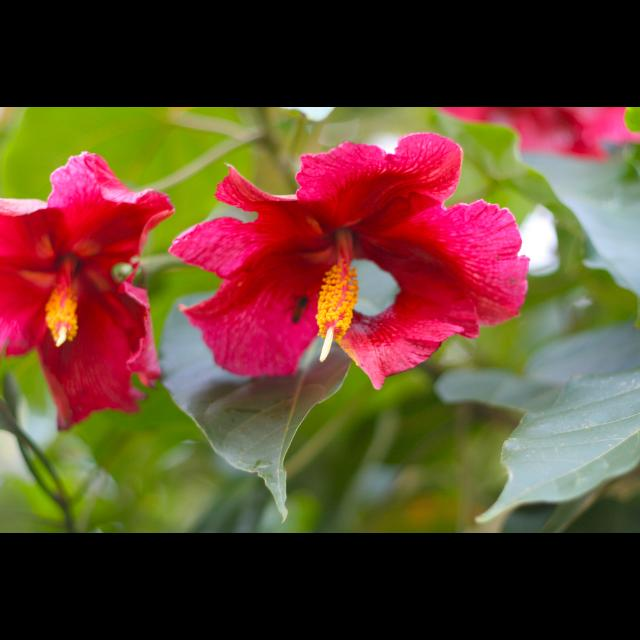Flower: (172, 136, 500, 388), (1, 152, 178, 434), (440, 107, 640, 159)
